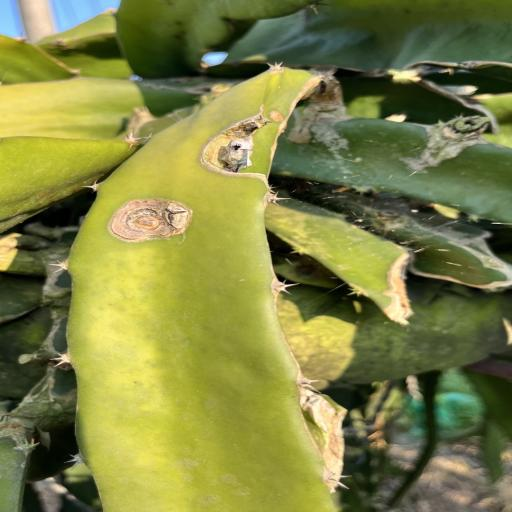stemcanker: (268, 110, 286, 122), (275, 84, 284, 90)
